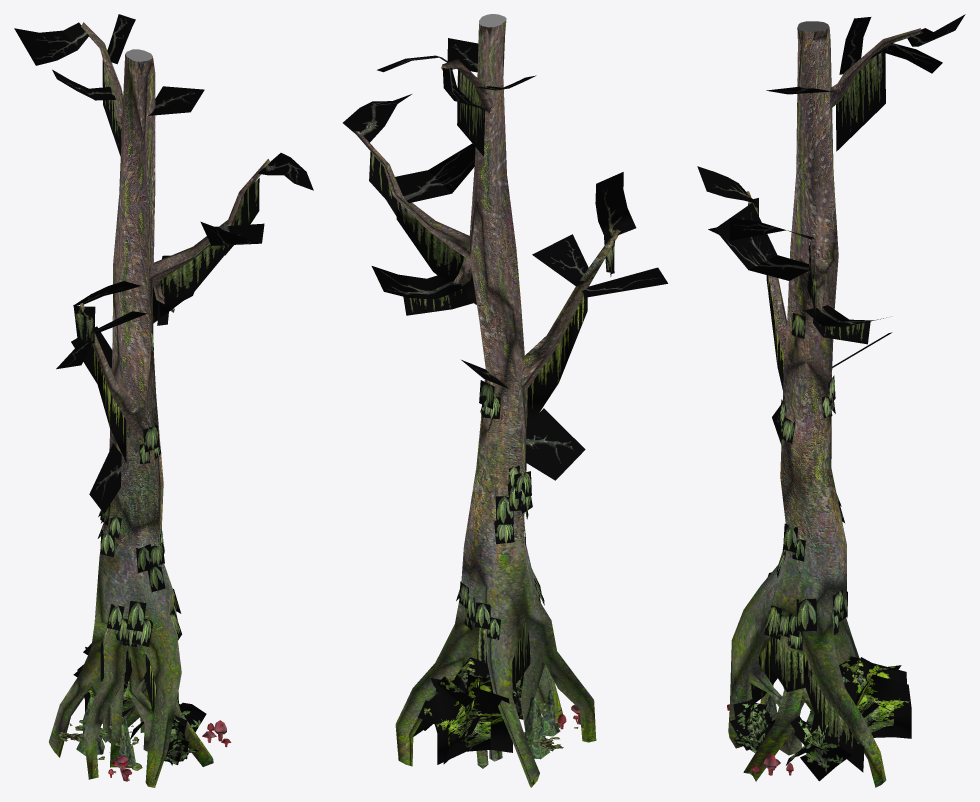
Rendered from forest-tree-1.glb.
3 views of the same model, side by side, from view 1: azimuth 30°, elevation 25°; view 2: azimuth 150°, elevation 25°; view 3: azimuth 270°, elevation 25° (orthographic). The views are drawn at different scales.
Visible parts, largest first — view 1: forest-tree-1_mesh; view 2: forest-tree-1_mesh; view 3: forest-tree-1_mesh.
Part boxes in pixels (left/top/right/bottom): forest-tree-1_mesh: left=14, top=14, right=313, bottom=787; forest-tree-1_mesh: left=343, top=14, right=667, bottom=787; forest-tree-1_mesh: left=697, top=14, right=965, bottom=787.
Size of the model in its own units: 3.38 by 8.47 by 2.8.
8 materials, 7 textured.
